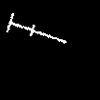double_crochet: (7, 13, 65, 42)
